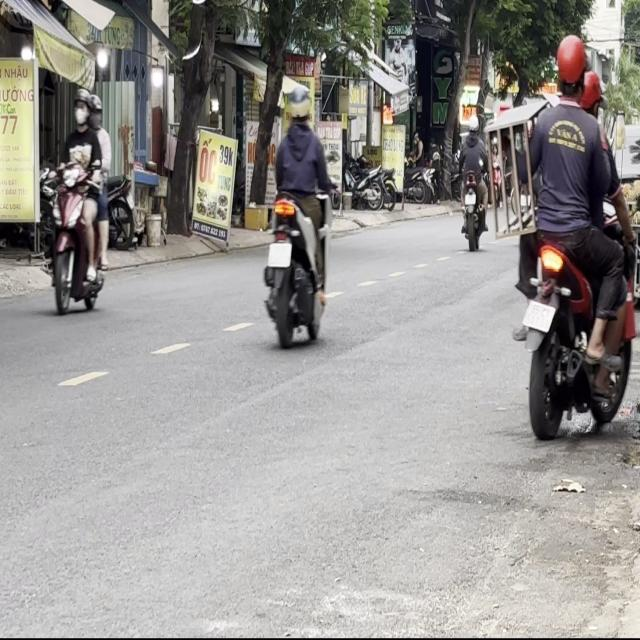helmet: (553, 34, 587, 101), (286, 83, 313, 127), (580, 68, 602, 114), (72, 88, 91, 128), (88, 91, 102, 126)
licenseplate: (512, 28, 638, 446), (262, 81, 333, 346), (44, 88, 110, 316)
nohelmet: (522, 301, 555, 329), (267, 240, 290, 266)
